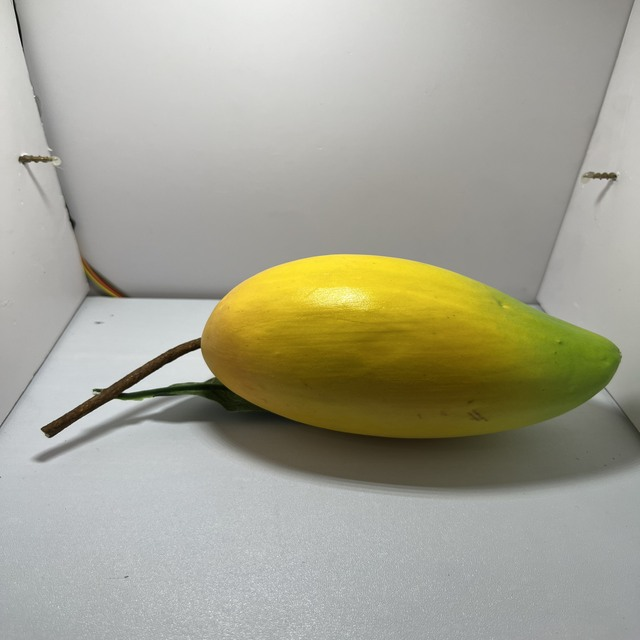Xoai: (195, 249, 632, 445)
